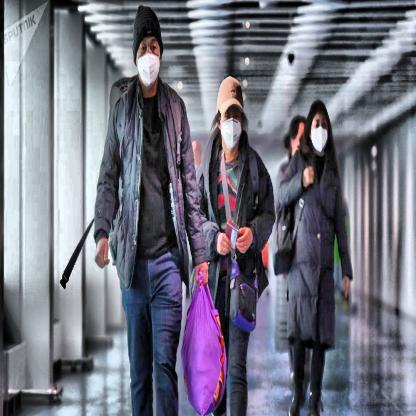not_wear: (131, 8, 161, 90), (219, 76, 244, 153), (310, 99, 332, 156)
